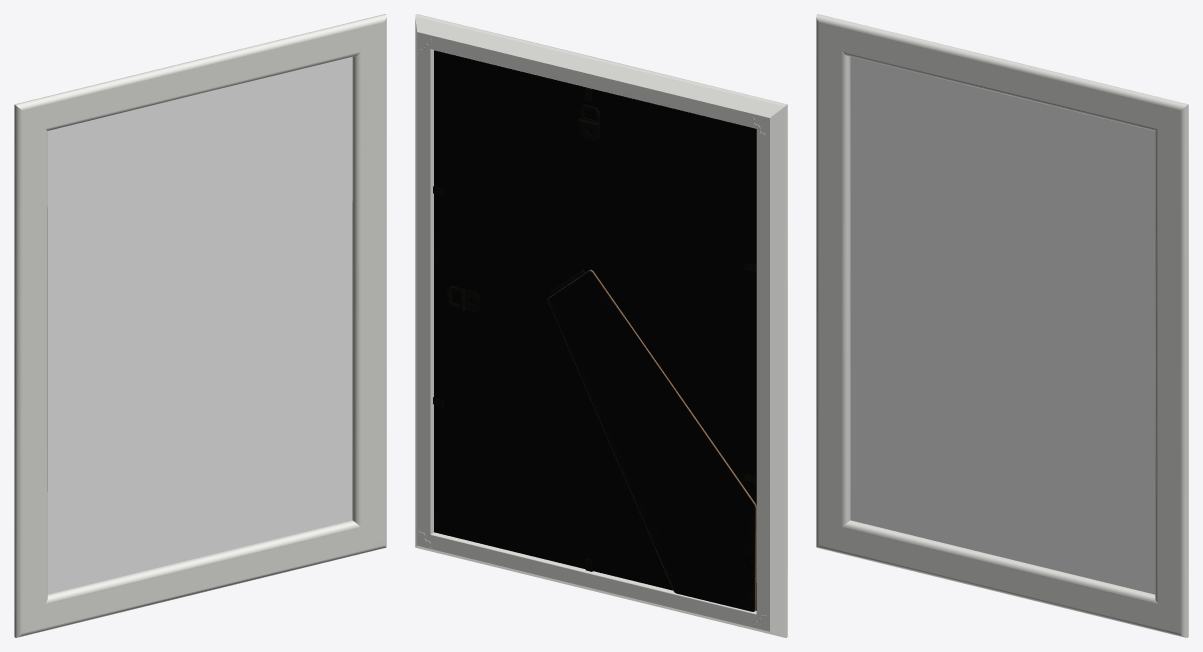
Rendered from fiskbo_ramka_80300373.glb.
3 renders of one model, left to right at view 1: azimuth 30°, elevation 25°; view 2: azimuth 150°, elevation 25°; view 3: azimuth 330°, elevation 25°, orthographic.
Visible parts, largest first — view 1: fiskbo_ramka_80300373; view 2: fiskbo_ramka_80300373; view 3: fiskbo_ramka_80300373.
Part boxes in pixels (box(x1,y1,x2,y2)): fiskbo_ramka_80300373: box(14, 14, 386, 637); fiskbo_ramka_80300373: box(415, 14, 787, 637); fiskbo_ramka_80300373: box(816, 14, 1188, 637).
Size of the model in its own units: 0.242 by 0.332 by 0.0124.
2 materials, 2 textured.
